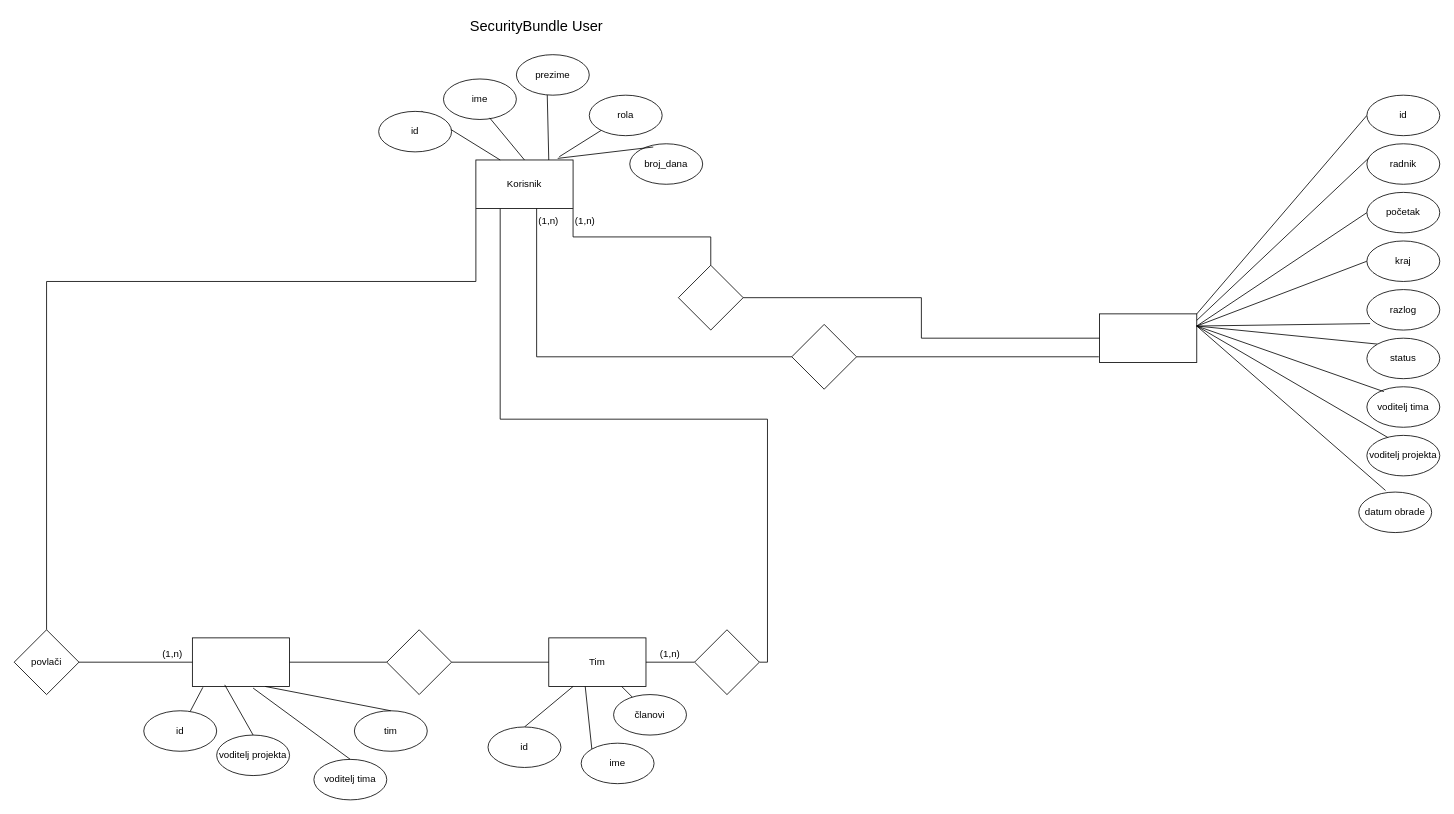
Some shapes in this 1454 by 814 pixel diagram are drawn without their labels. Each missing label, with the centre of its shape:
"obrađuje" goes at (710,297).
"se nalazi u" goes at (726,662).
"upravlja" goes at (419,662).
"Voditelji i timovi" goes at (241,661).
"Zahtjev za GO" goes at (1148,337).
"zahtjeva" goes at (824,356).
